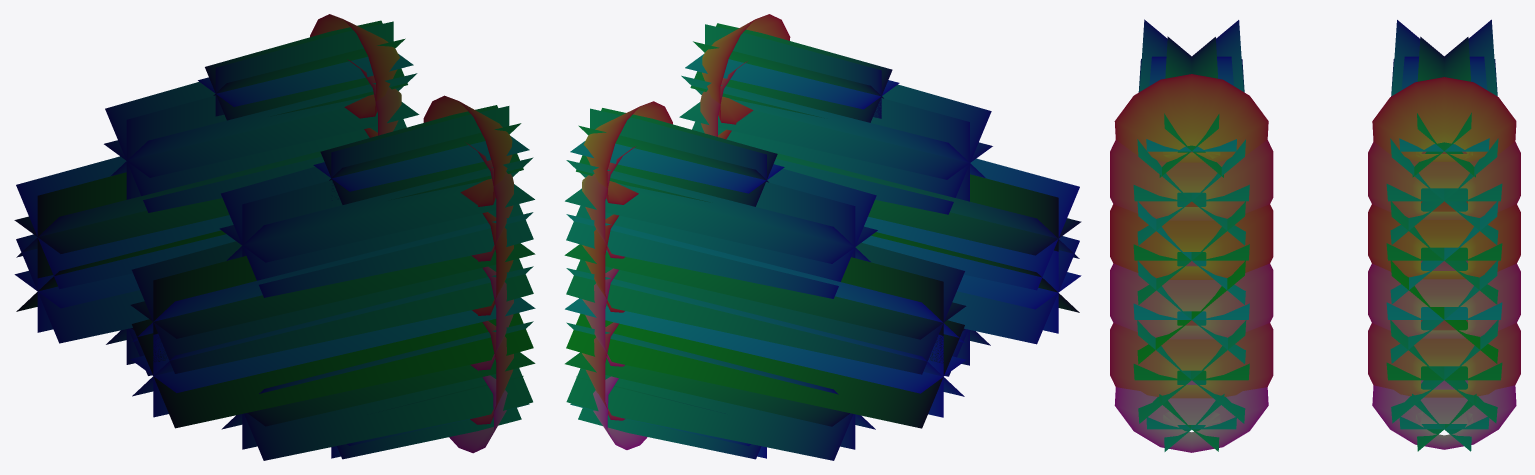
Rendered from Octane_Boost.glb.
3 renders of one model, left to right at view 1: azimuth 30°, elevation 25°; view 2: azimuth 150°, elevation 25°; view 3: azimuth 270°, elevation 25°, orthographic. The views are drawn at different scales.
Parts seen in each view (by area): view 1: Octane_Boost; view 2: Octane_Boost; view 3: Octane_Boost.
Boxes of the visible parts, <box> form: Octane_Boost: <box>14,14,535,460</box>; Octane_Boost: <box>564,14,1081,460</box>; Octane_Boost: <box>1110,19,1520,452</box>.
Size of the model in its own units: 0.32 by 0.298 by 0.2929.
